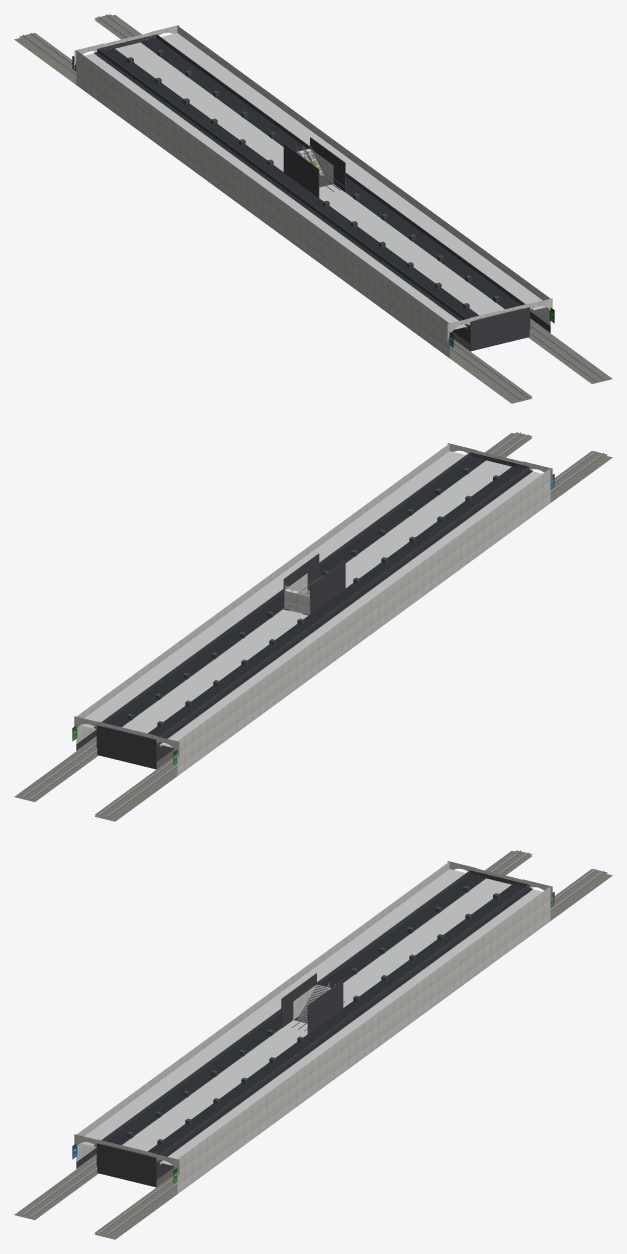
The model's file is wl80-r3-game-metro-assets-platform_longxiangqiao.glb.
3 renders of one model, top to bottom at view 1: azimuth 30°, elevation 25°; view 2: azimuth 150°, elevation 25°; view 3: azimuth 330°, elevation 25°, orthographic.
Parts seen in each view (by area): view 1: pf_hall, pf_col, pf_stairs_col, pf_stairs; view 2: pf_hall, pf_col, pf_stairs_col, pf_stairs; view 3: pf_hall, pf_col, pf_stairs_col, pf_stairs.
Boxes of the visible parts, x1,y1,x2,y2 form: pf_hall: (14,14,612,403); pf_col: (97,34,530,351); pf_stairs_col: (283,137,345,197); pf_stairs: (296,144,347,192); pf_hall: (14,432,612,821); pf_col: (96,452,529,769); pf_stairs_col: (283,553,345,614); pf_stairs: (282,573,322,614); pf_hall: (14,850,612,1239); pf_col: (96,870,529,1187); pf_stairs_col: (281,973,343,1033); pf_stairs: (292,982,344,1031).
Bounding box in the file's own units: 19.5 × 10.1 × 160.
Materials: 35 (18 with a texture image).
